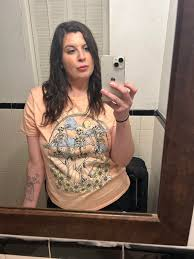Human_Female: (24, 21, 130, 207)
